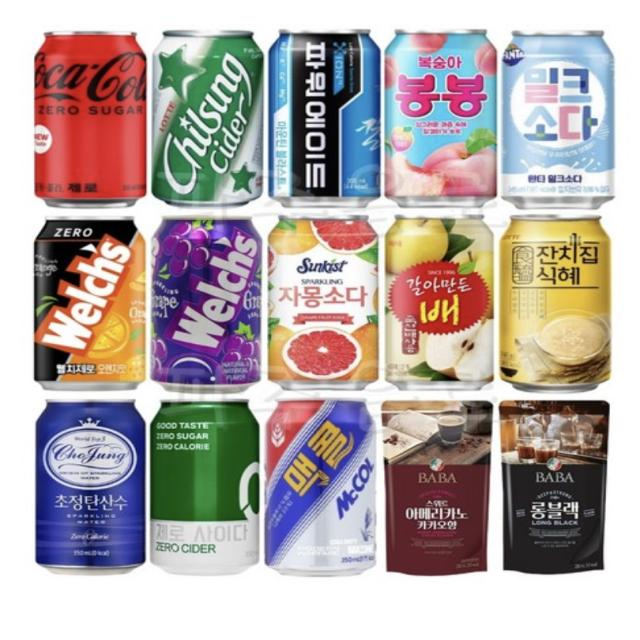recyclable: (16, 208, 147, 400), (20, 19, 150, 208), (495, 215, 628, 397), (141, 394, 269, 578), (502, 15, 620, 212), (382, 16, 500, 211), (20, 399, 151, 572), (262, 18, 381, 207), (145, 210, 267, 394), (379, 210, 498, 396), (261, 212, 383, 393), (149, 17, 265, 207), (260, 394, 380, 576)
